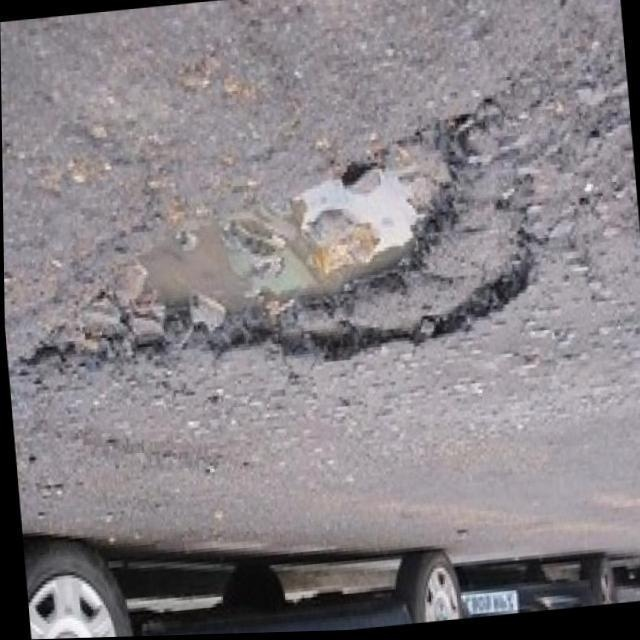pothole: (65, 135, 520, 399)
